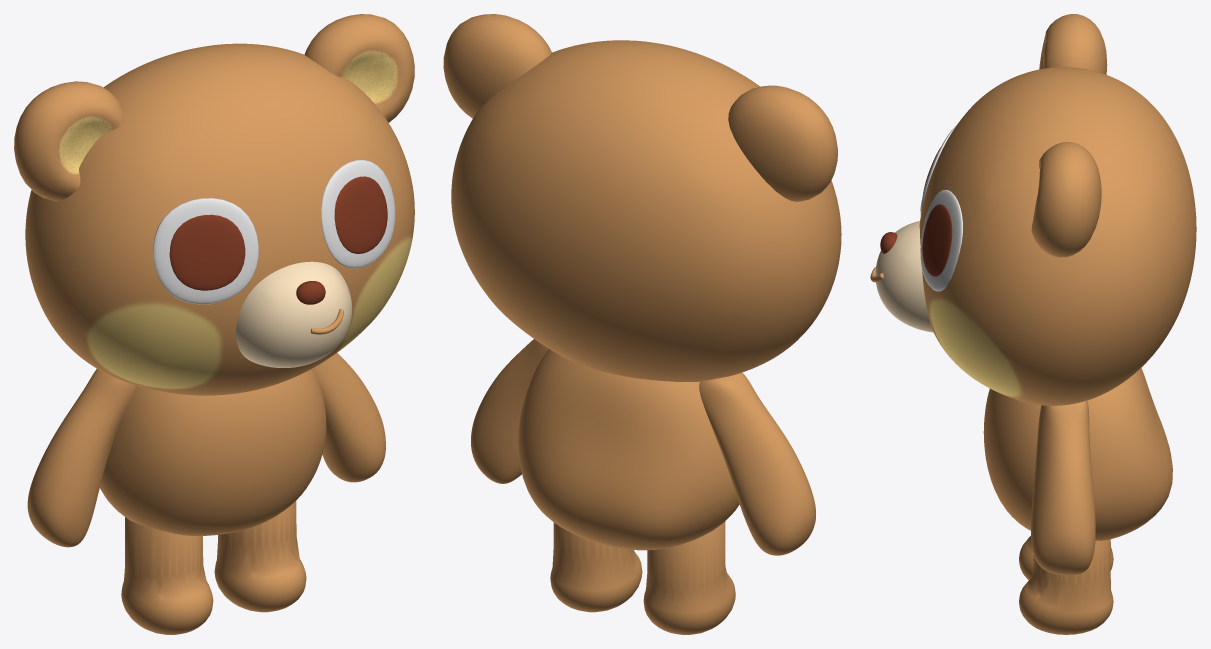
The model's file is logicbear_3d_1.glb.
3 renders of one model, left to right at view 1: azimuth 30°, elevation 25°; view 2: azimuth 150°, elevation 25°; view 3: azimuth 270°, elevation 25°, orthographic. The views are drawn at different scales.
Parts seen in each view (by area): view 1: Cube, Cube.007, Cube.001, Cube.009, Cube.004, Cylinder.001, Cube.006, Cube.005, Cylinder.002, Cube.010, Cube.003; view 2: Cube, Cube.007, Cube.001, Cube.009, Cylinder.001, Cylinder.002, Cube.010; view 3: Cube, Cube.007, Cube.010, Cube.001, Cylinder.002, Cube.004, Cube.005, Cube.006, Cylinder.001.
Part boxes in pixels (x1,y1,x2,y2): Cube: (25,43,414,395); Cube.007: (100,368,326,535); Cube.001: (14,14,414,201); Cube.009: (27,369,136,547); Cube.004: (236,261,352,367); Cylinder.001: (121,517,213,634); Cube.006: (169,176,387,290); Cube.005: (153,159,395,304); Cylinder.002: (214,501,306,612); Cube.010: (313,353,385,482); Cube.003: (296,281,325,304); Cube: (451,40,841,381); Cube.007: (518,349,739,550); Cube.001: (443,14,837,201); Cube.009: (699,372,815,555); Cylinder.001: (643,522,735,634); Cylinder.002: (550,522,642,612); Cube.010: (471,339,548,483); Cube: (919,67,1196,405); Cube.007: (983,368,1172,540); Cube.010: (1031,400,1095,574); Cube.001: (1031,14,1107,257); Cylinder.002: (1019,539,1113,634); Cube.004: (875,221,933,332); Cube.005: (920,125,962,291); Cube.006: (922,149,952,276); Cylinder.001: (1019,536,1113,580).
Size of the model in its own units: 1.38 by 1.91 by 1.07.
Materials: 7 (3 with a texture image).
